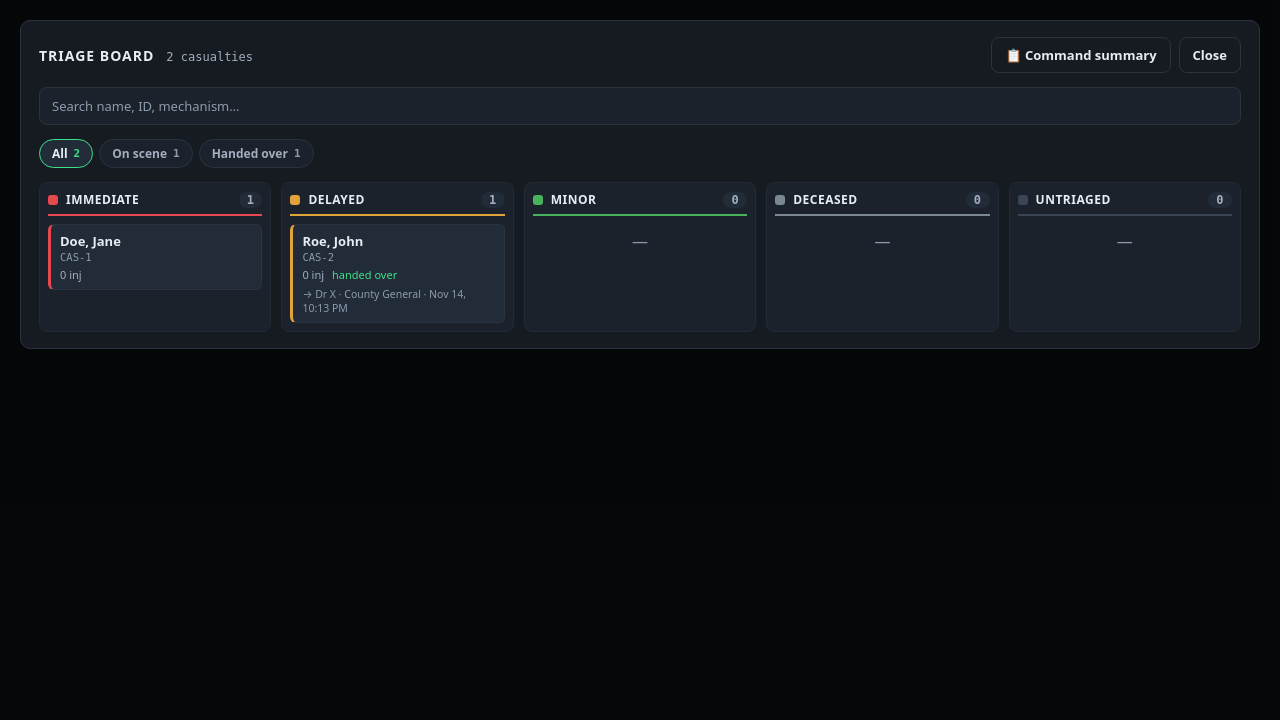
Test case: TriageBoard scope filter › filters between on-scene and handed-over casualties
Expected: the text "Doe, Jane" is shown, [60,232,121,250]
Expected: the text "Roe, John" is shown, [302,232,363,250]
"On scene" hides the handed-over casualty.
Click the button "On scene 1" at (146, 154), box [99,139,193,168]
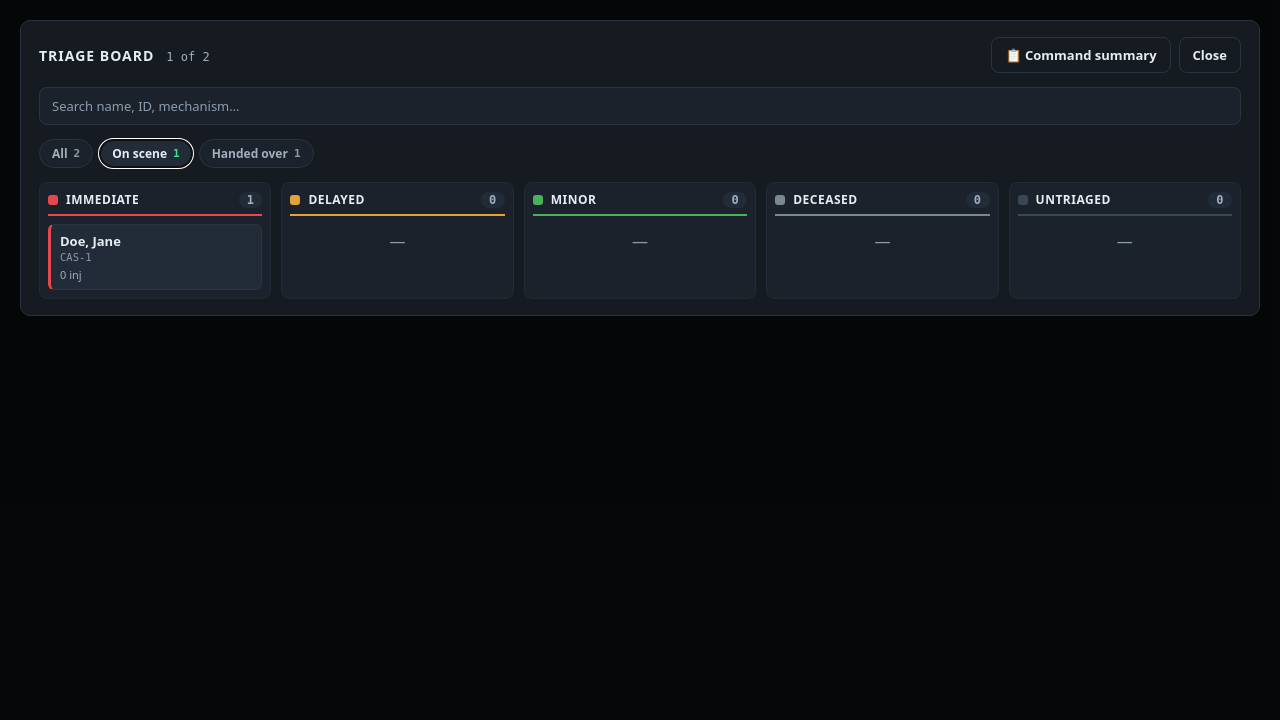
Expected: the text "Doe, Jane" is shown, [60,232,121,250]
Now the button "Roe, John" is gone
"Handed over" shows only the handed-over casualty.
Click the button "Handed over 1" at (256, 154), box [199,139,314,168]
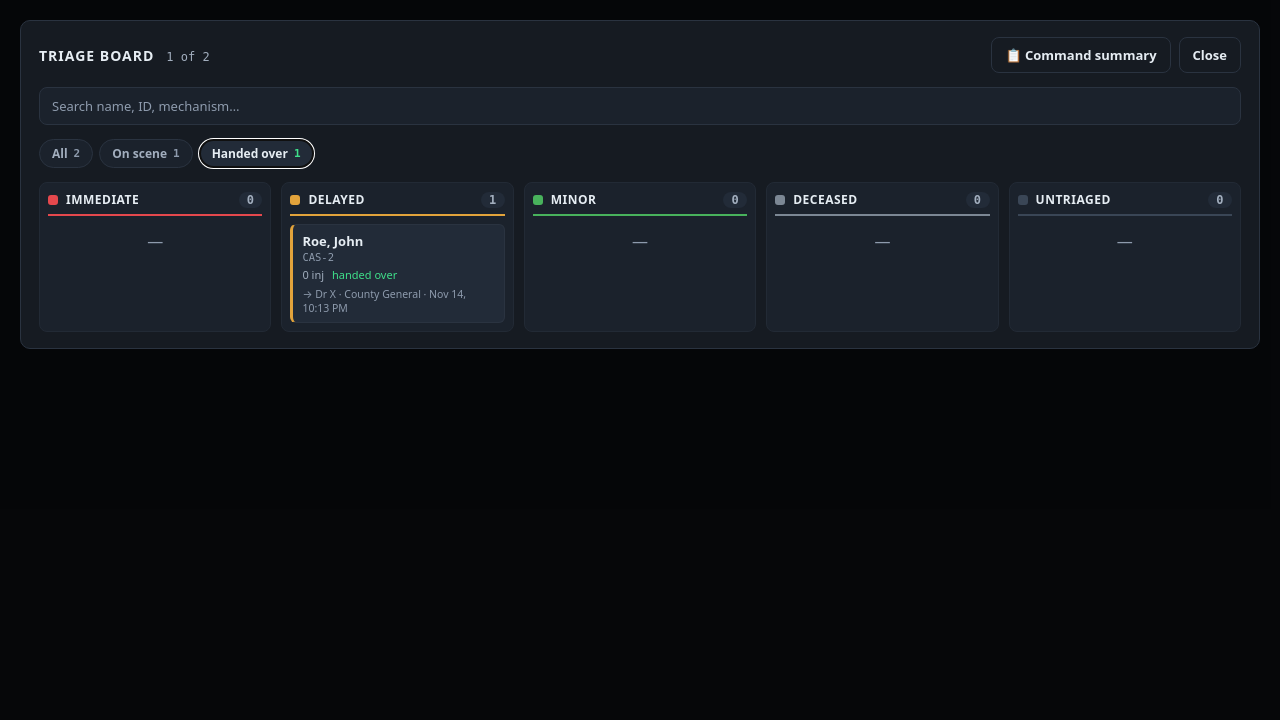
Now the button "Doe, Jane" is gone
Now the text "Roe, John" is shown, box [302,232,363,250]
